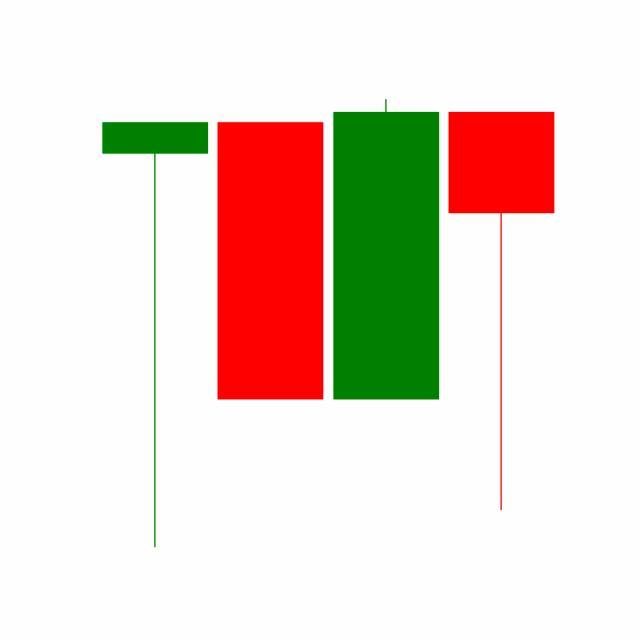Marubozu: (329, 97, 445, 404)
